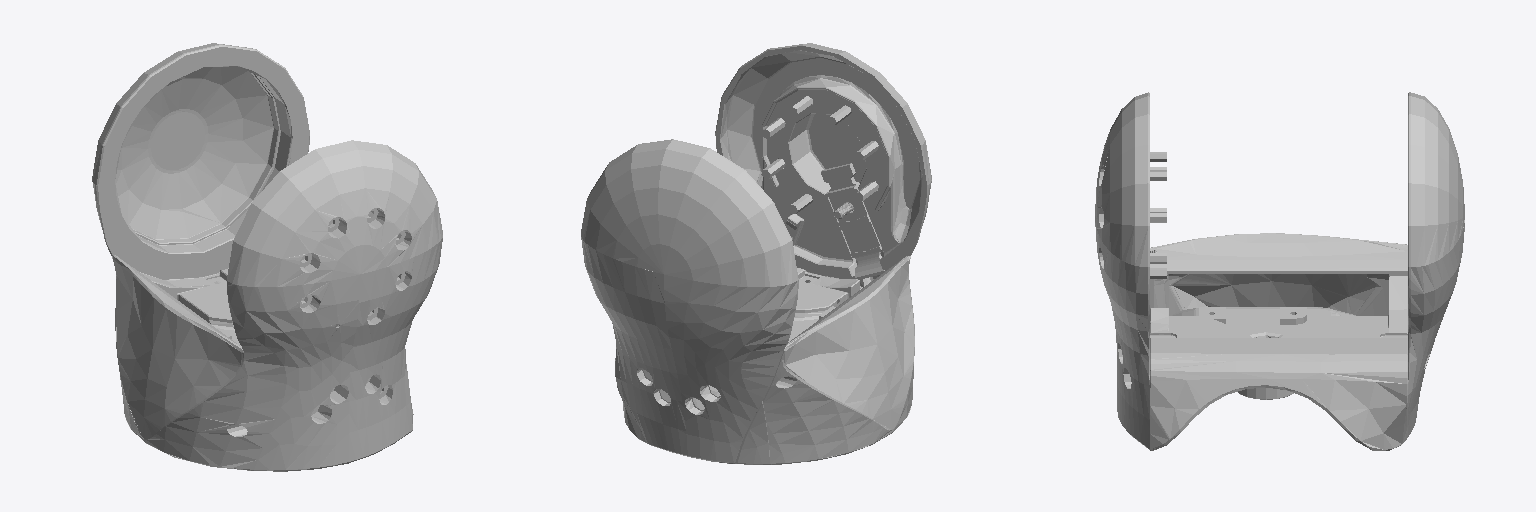
Rendered from elbow1_right_3.obj.
The picture shows the model from 3 angles: view 1: azimuth 30°, elevation 25°; view 2: azimuth 150°, elevation 25°; view 3: azimuth 270°, elevation 25°; orthographic projection.
Size of the model in its own units: 0.1009 by 0.1273 by 0.1365.